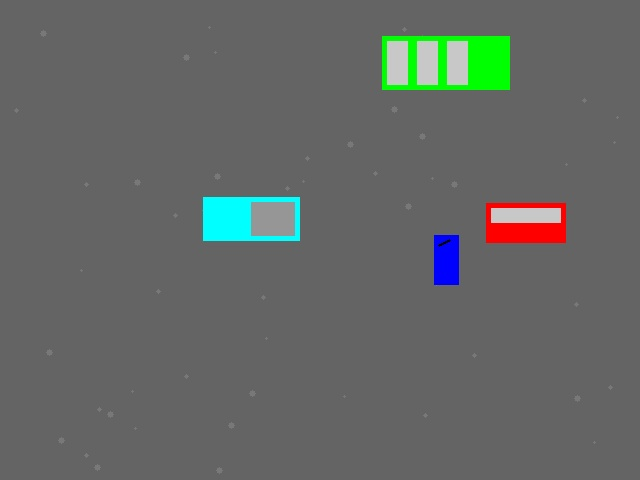bus: (382, 36, 509, 89)
car: (486, 203, 565, 242)
motorcycle: (434, 235, 458, 284)
truck: (203, 197, 299, 240)
